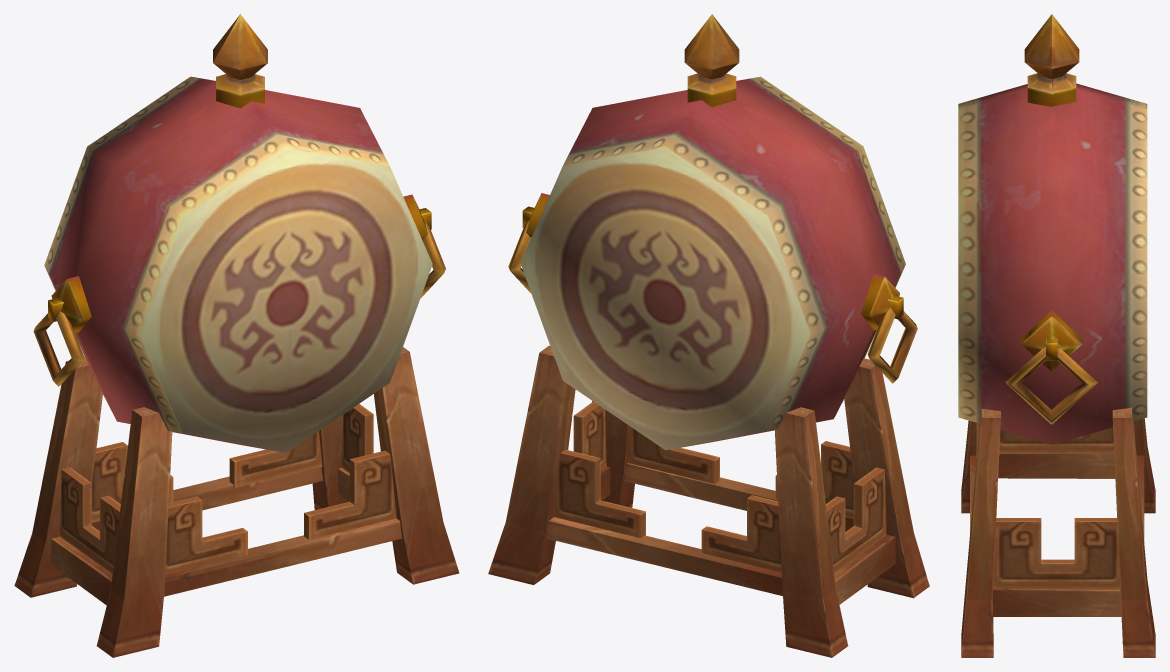
Rendered from szc_object_gu01a.FBX.
The picture shows the model from 3 angles, left to right: view 1: azimuth 30°, elevation 25°; view 2: azimuth 150°, elevation 25°; view 3: azimuth 270°, elevation 25°; orthographic projection.
Visible parts, largest first — view 1: szc_object_gu01a; view 2: szc_object_gu01a; view 3: szc_object_gu01a.
Part boxes in pixels (x1=…): szc_object_gu01a: x1=14, y1=14, x2=459, y2=657; szc_object_gu01a: x1=488, y1=14, x2=929, y2=657; szc_object_gu01a: x1=958, y1=14, x2=1155, y2=657.
Bounding box in the file's own units: 41.98 × 60.3 × 19.25.
